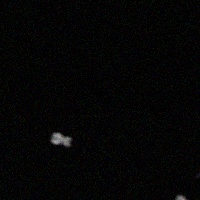chromosome: (51, 133, 73, 149), (174, 194, 192, 200)
